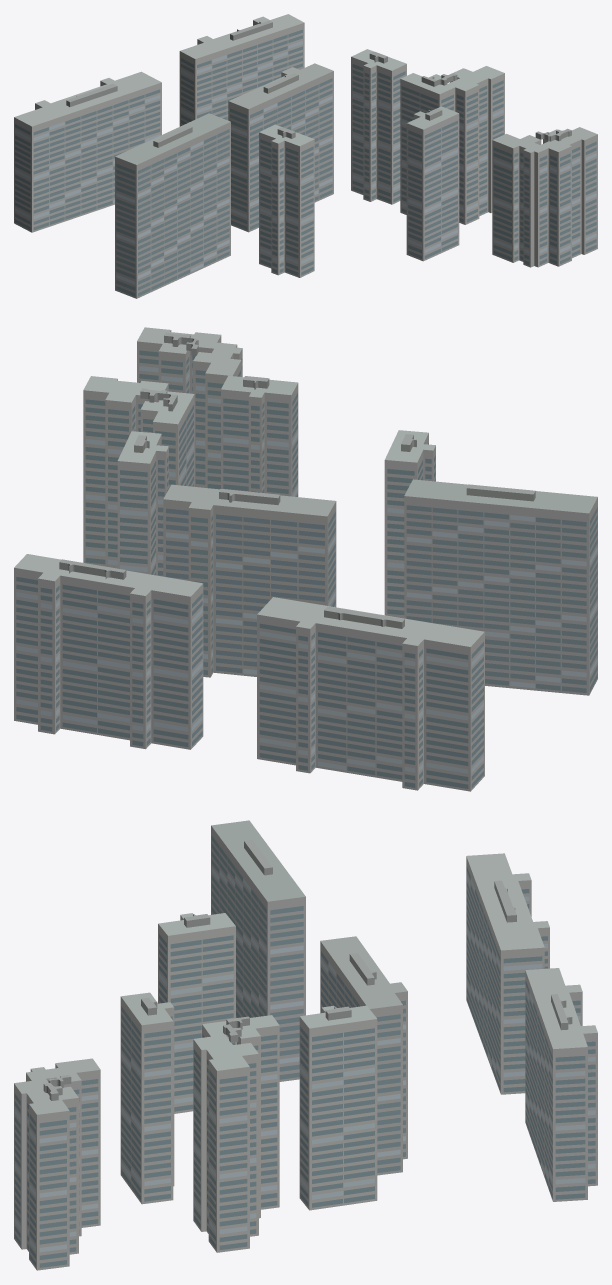
File: apt-a13204002.glb
The picture shows the model from 3 angles, top to bottom: view 1: azimuth 30°, elevation 25°; view 2: azimuth 150°, elevation 25°; view 3: azimuth 270°, elevation 25°; orthographic projection. The views are drawn at different scales.
Visible parts, largest first — view 1: apt-a13204002; view 2: apt-a13204002; view 3: apt-a13204002.
Boxes of the visible parts, bbox=[...] form: apt-a13204002: bbox=[14, 14, 597, 298]; apt-a13204002: bbox=[14, 327, 597, 791]; apt-a13204002: bbox=[14, 820, 597, 1270].
Bounding box in the file's own units: 201 × 65 × 182.
